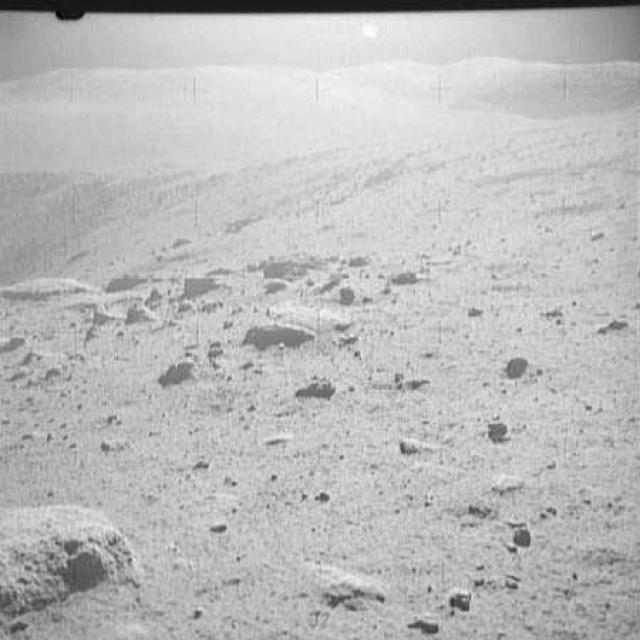rock: (2, 498, 137, 616), (246, 302, 346, 348), (0, 270, 98, 297), (261, 254, 326, 278), (157, 354, 198, 386), (296, 370, 336, 402), (177, 268, 222, 296), (126, 299, 158, 326), (503, 354, 529, 380), (334, 281, 355, 299)
